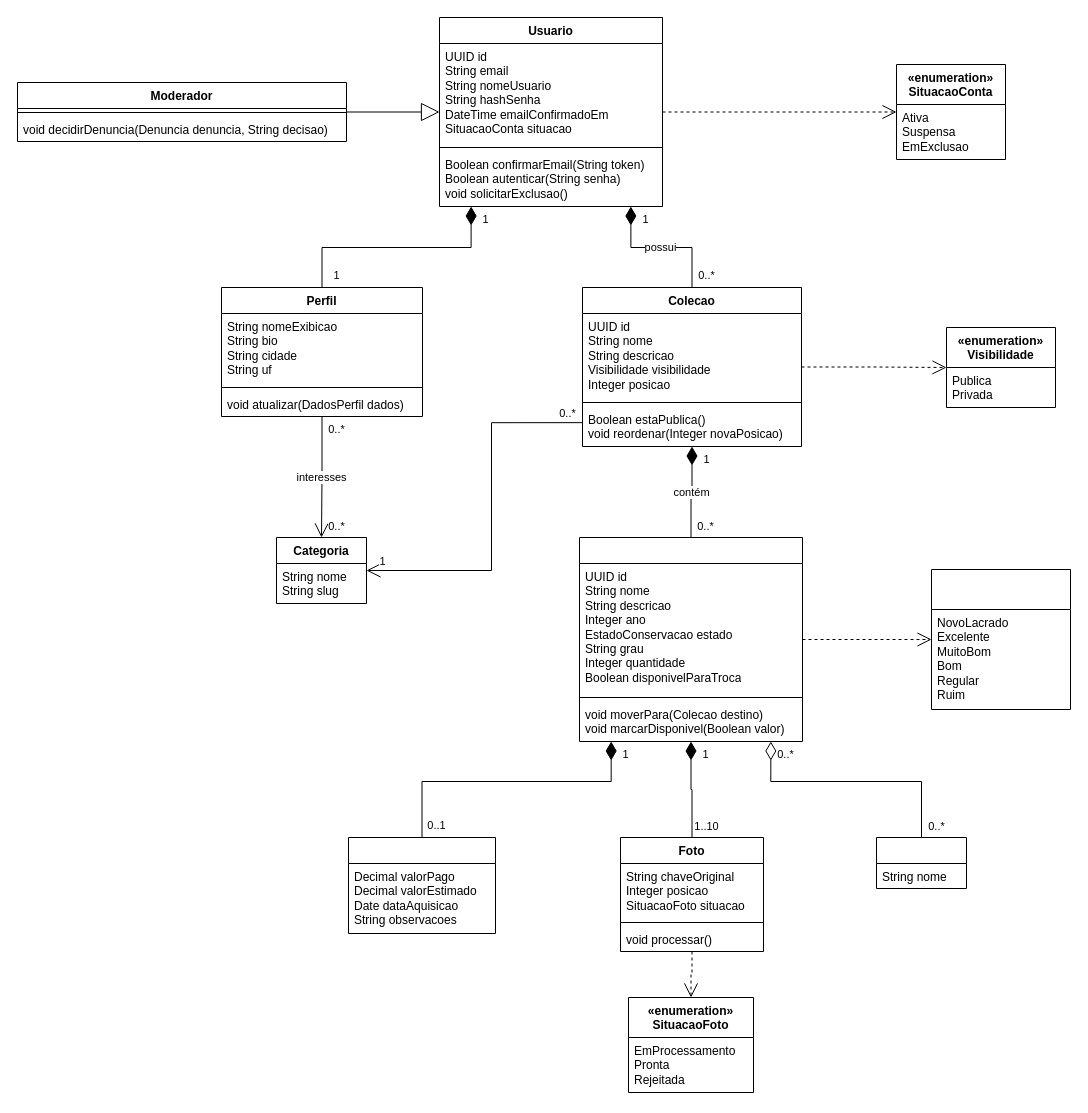
Some shapes in this 1088 by 1113 pixel diagram are drawn without their labels. Here are the shapes that lost their labels. From the top down, the box of each, then its label:
(578, 536, 802, 742): Item
(930, 568, 1070, 710): «enumeration» EstadoConservacao
(876, 836, 966, 888): Tag
(348, 836, 496, 934): DadosPrivadosItem
